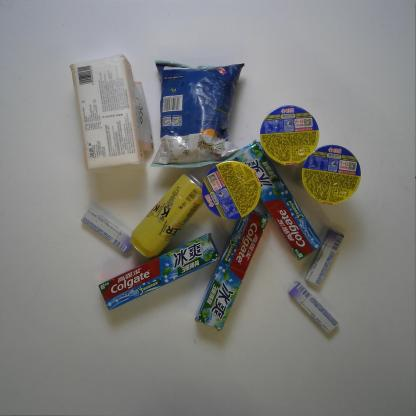Alcohol: (130, 174, 202, 259)
Candy: (287, 280, 338, 334), (80, 208, 134, 254), (304, 229, 344, 285)
Instant Noodles: (258, 105, 322, 166), (302, 145, 364, 206), (203, 160, 260, 221)
Personal Hygiene: (238, 139, 320, 261), (96, 233, 221, 311), (194, 208, 269, 330)
Puffed Food: (147, 58, 245, 172)
Tissue: (69, 54, 151, 173)
